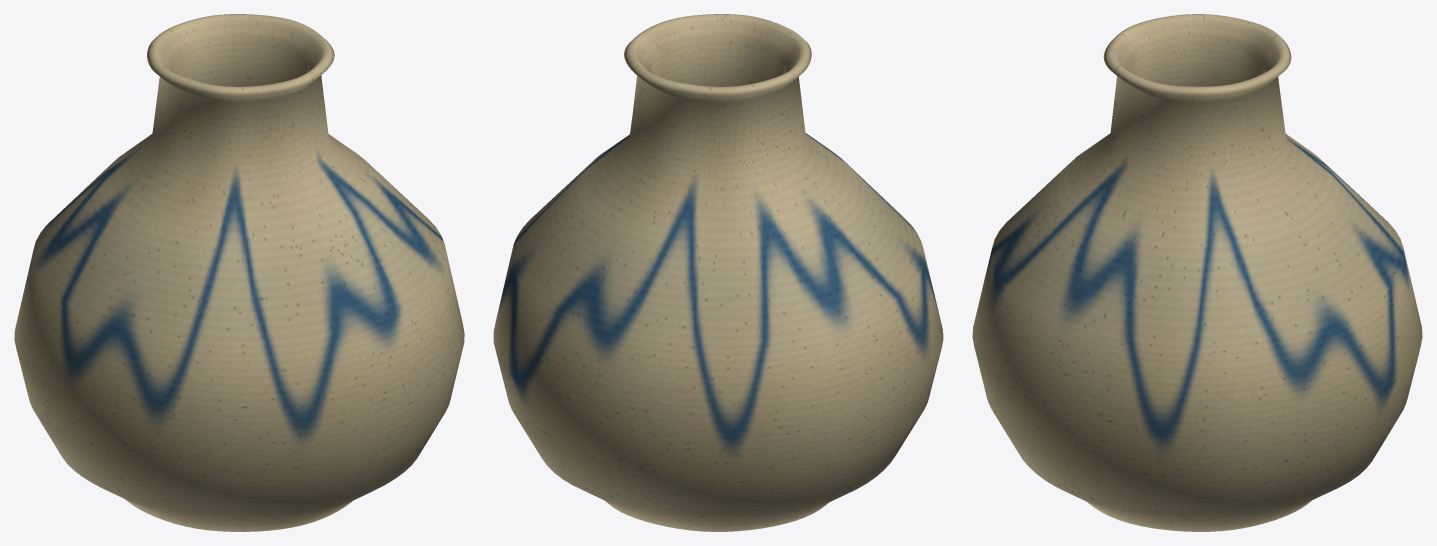
Rendered from B07JLBDT51.glb.
The picture shows the model from 3 angles, left to right: view 1: azimuth 30°, elevation 25°; view 2: azimuth 150°, elevation 25°; view 3: azimuth 270°, elevation 25°; orthographic projection.
Visible parts, largest first — view 1: bottle 1.001; view 2: bottle 1.001; view 3: bottle 1.001.
Boxes of the visible parts, <box> form: bottle 1.001: <box>14,14,464,531</box>; bottle 1.001: <box>493,14,943,531</box>; bottle 1.001: <box>972,14,1422,531</box>.
Size of the model in its own units: 0.96 by 1.02 by 0.96.
2 materials, 1 textured.
